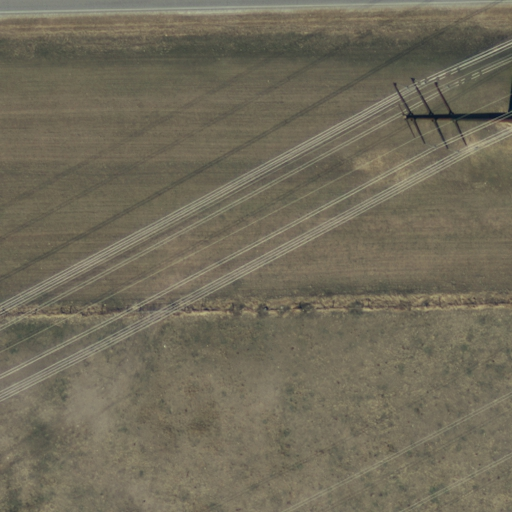TT: (385, 68, 506, 155)
